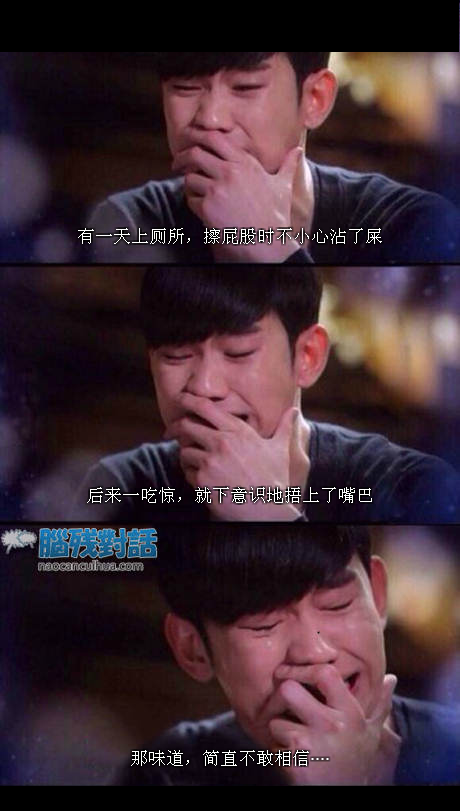face: (218, 551, 380, 746), (155, 299, 290, 461), (164, 36, 298, 188)
